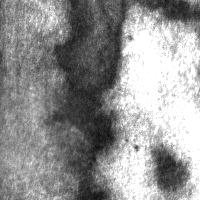patches: (52, 1, 122, 168), (0, 72, 89, 194)
